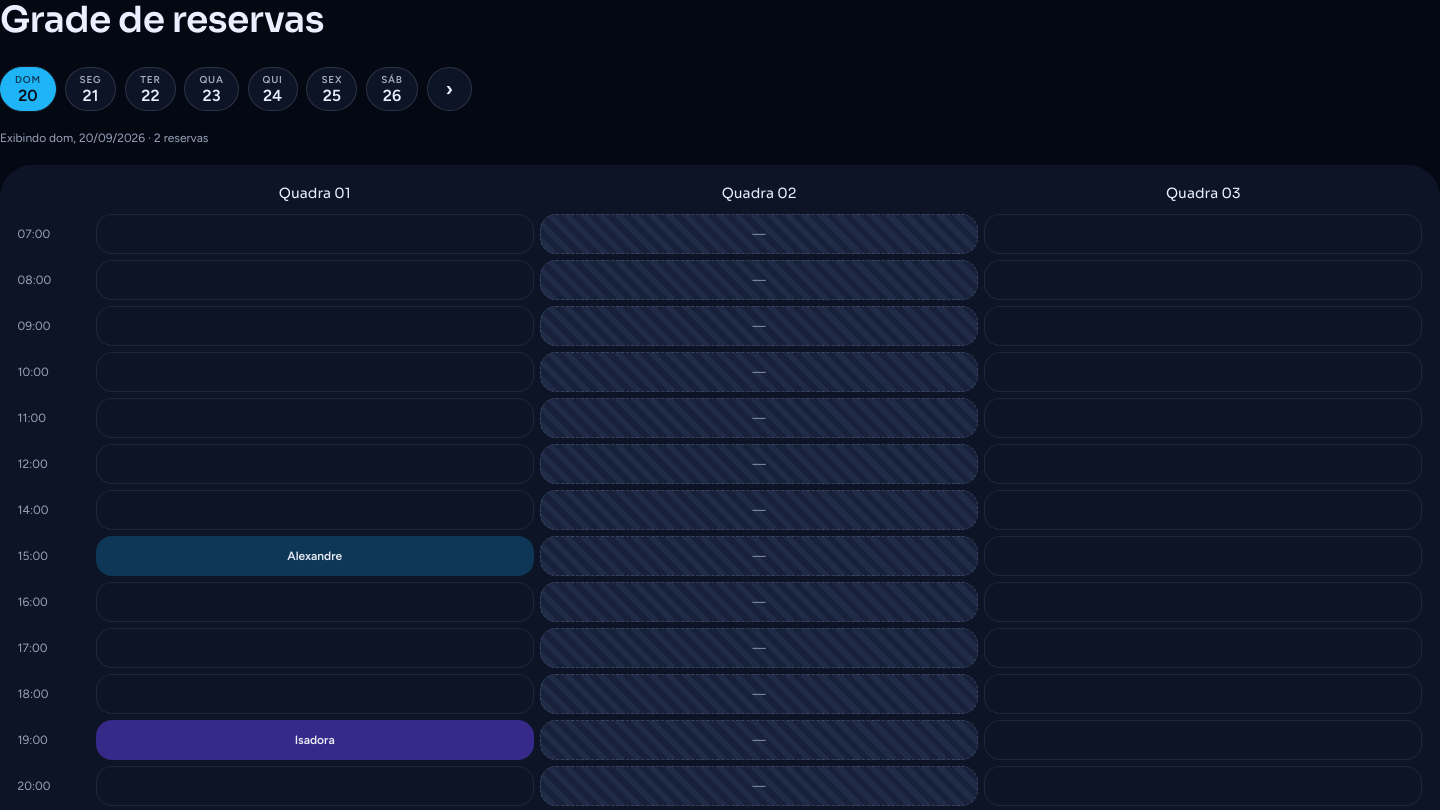
Test: GradeReservasPage › altera o horário da reserva (RF13) exibindo o horário atual como livre
Click the button with aria-label "Quadra 01 às 19:00 — Isadora": x=315, y=740 96,720 -> 534,760
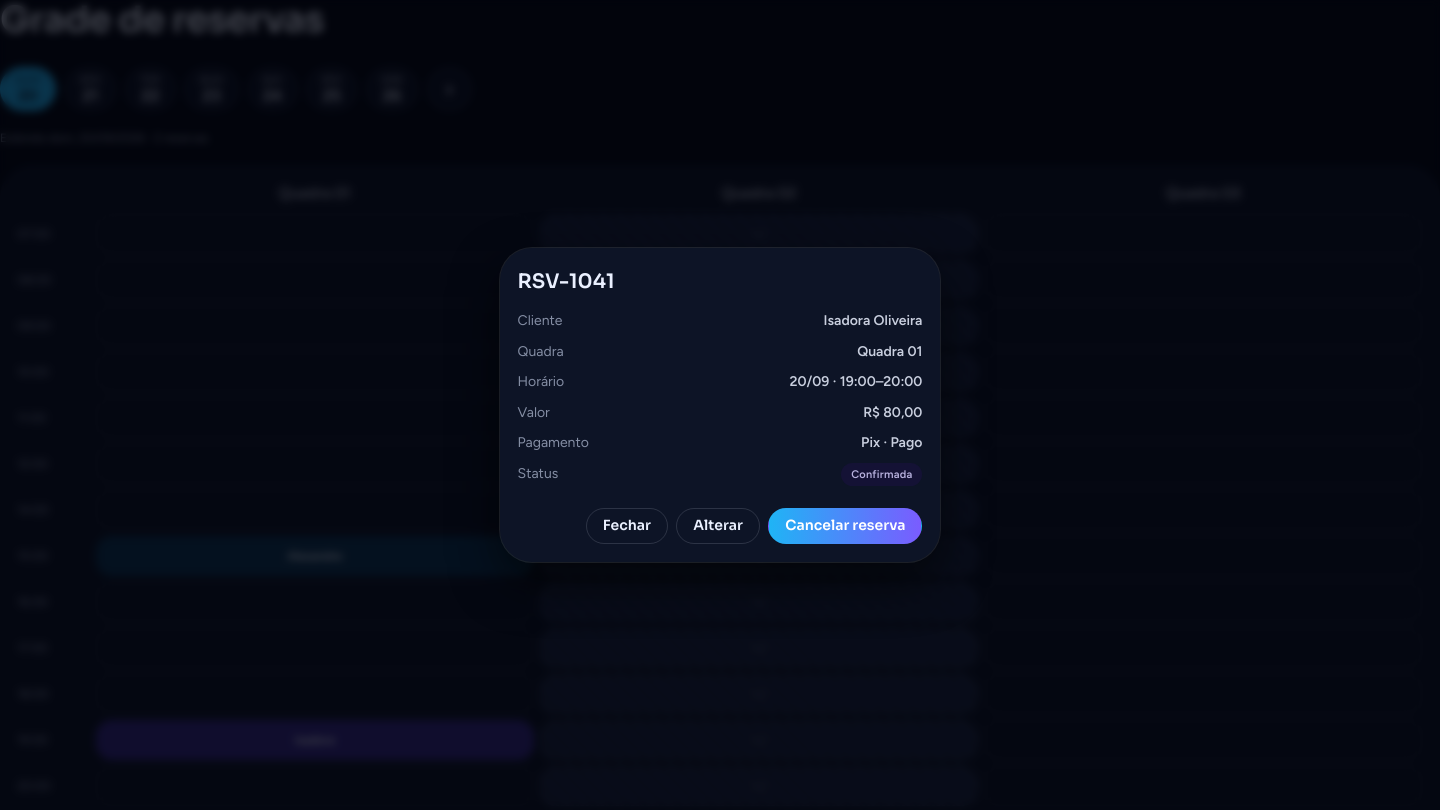
Click the button "Alterar": x=718, y=526 676,508 -> 760,544
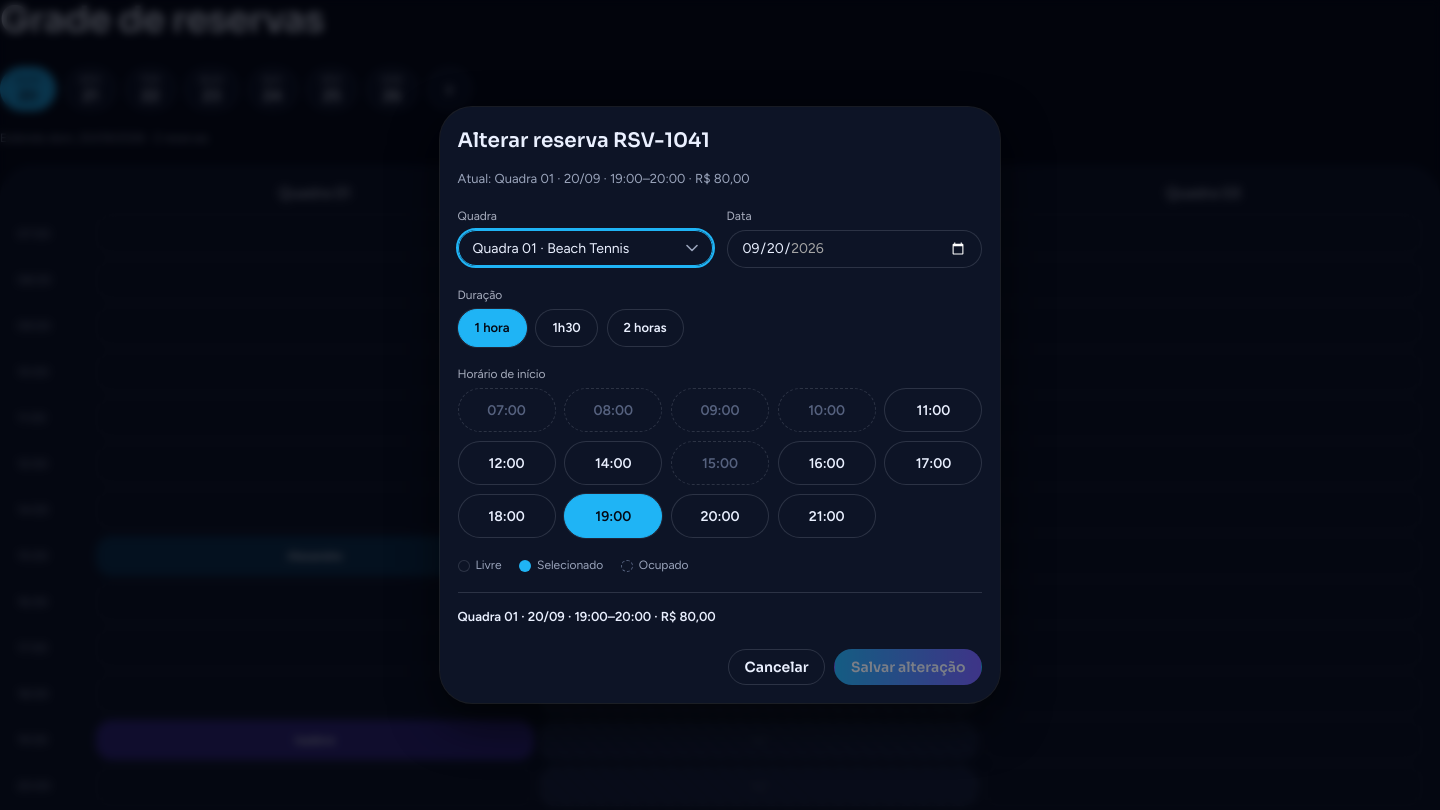
Check: the dropdown labelled "Quadra" shows "Quadra 01 · Beach Tennis", box 458,230 -> 713,266
Check: the date field labelled "Data" holds "2026-09-20", box 727,230 -> 982,268
Check: the button "Salvar alteração" is disabled, box 834,649 -> 982,685
Click the button "20:00": x=720, y=516 671,494 -> 769,538
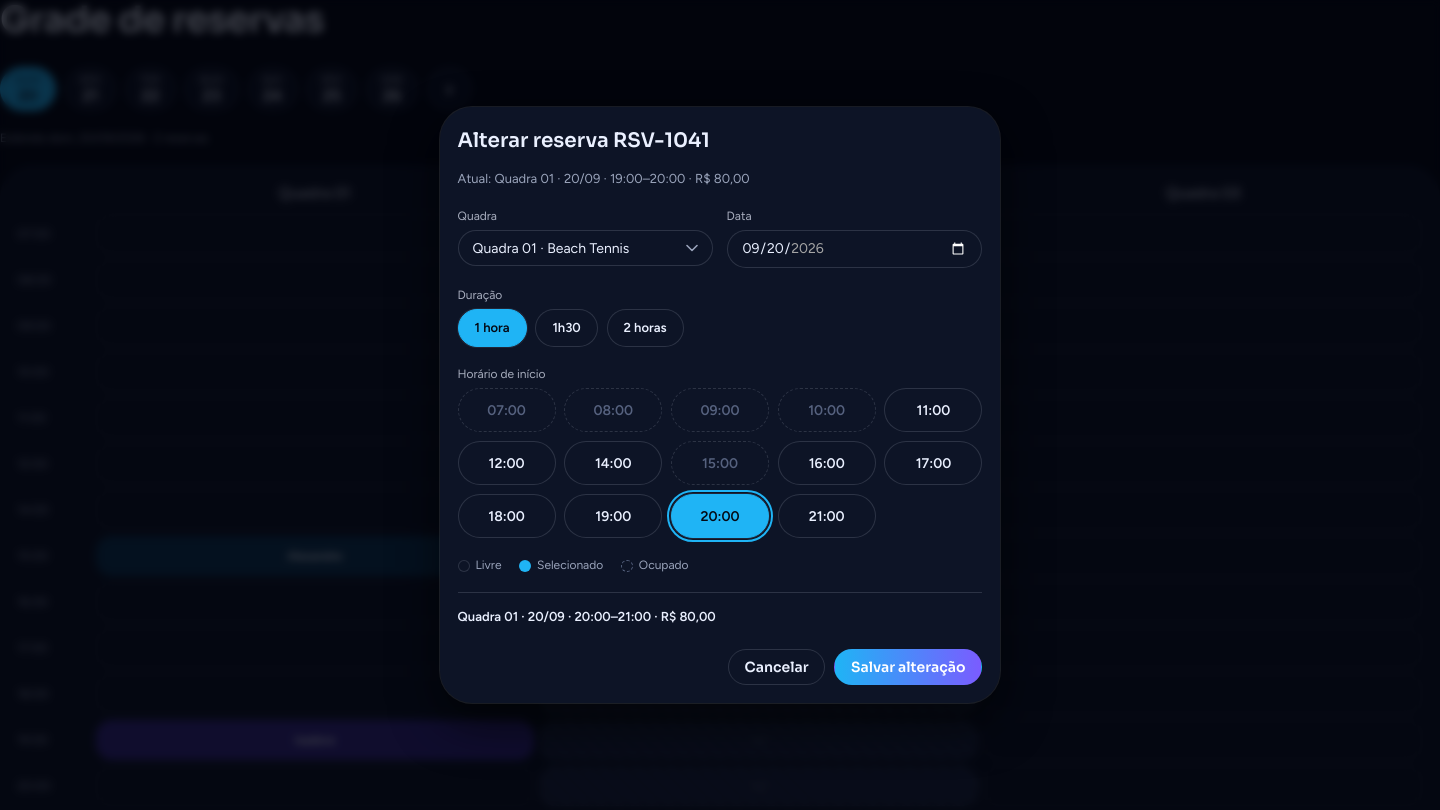
Check: the text "Quadra 01 · 20/09 · 20:00–21:00 · R$ 80,00" is shown, box 458,592 -> 982,627
Click the button "Salvar alteração": x=908, y=667 834,649 -> 982,685
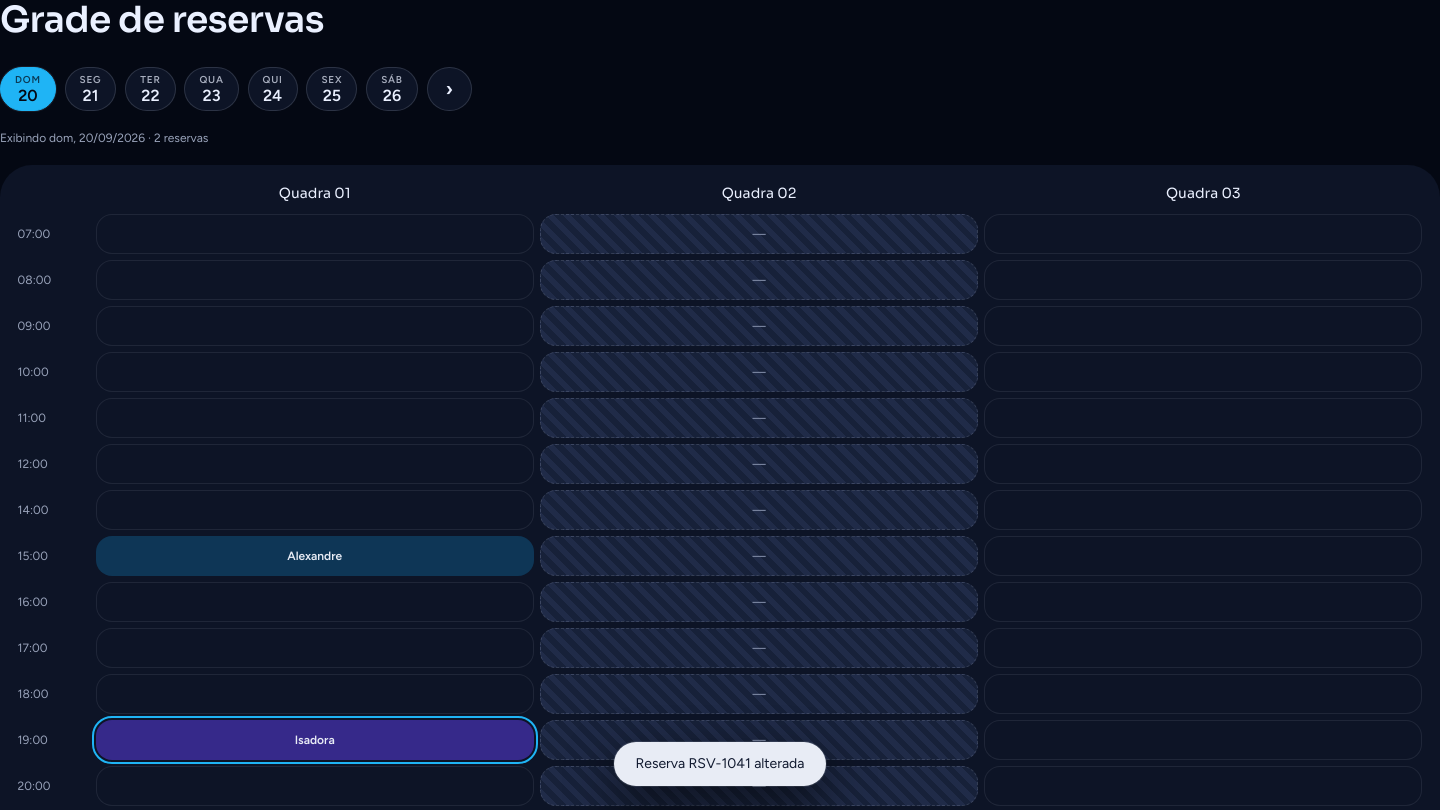
Check: the text "Reserva RSV-1041 alterada" is shown, box 614,742 -> 826,786
Check: the dialog is gone
